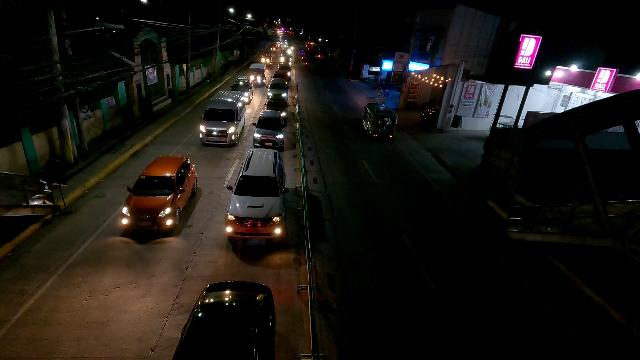car: (117, 153, 197, 234), (225, 148, 286, 243), (253, 109, 285, 150), (230, 76, 256, 103), (263, 93, 290, 119), (266, 78, 289, 99), (271, 70, 291, 87), (277, 65, 292, 76)
jeepney: (361, 103, 398, 145), (248, 62, 266, 88), (260, 52, 273, 65)
van: (198, 91, 246, 148)
